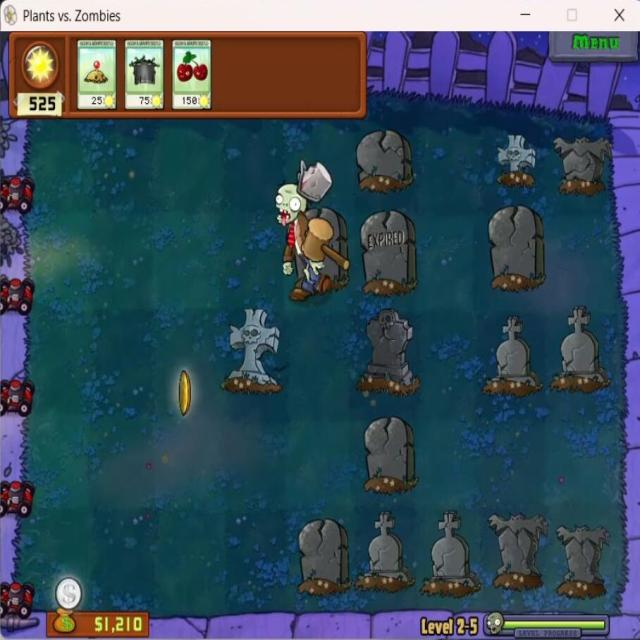coins: (173, 366, 199, 423), (52, 573, 85, 612)
zombies: (273, 178, 328, 306)
